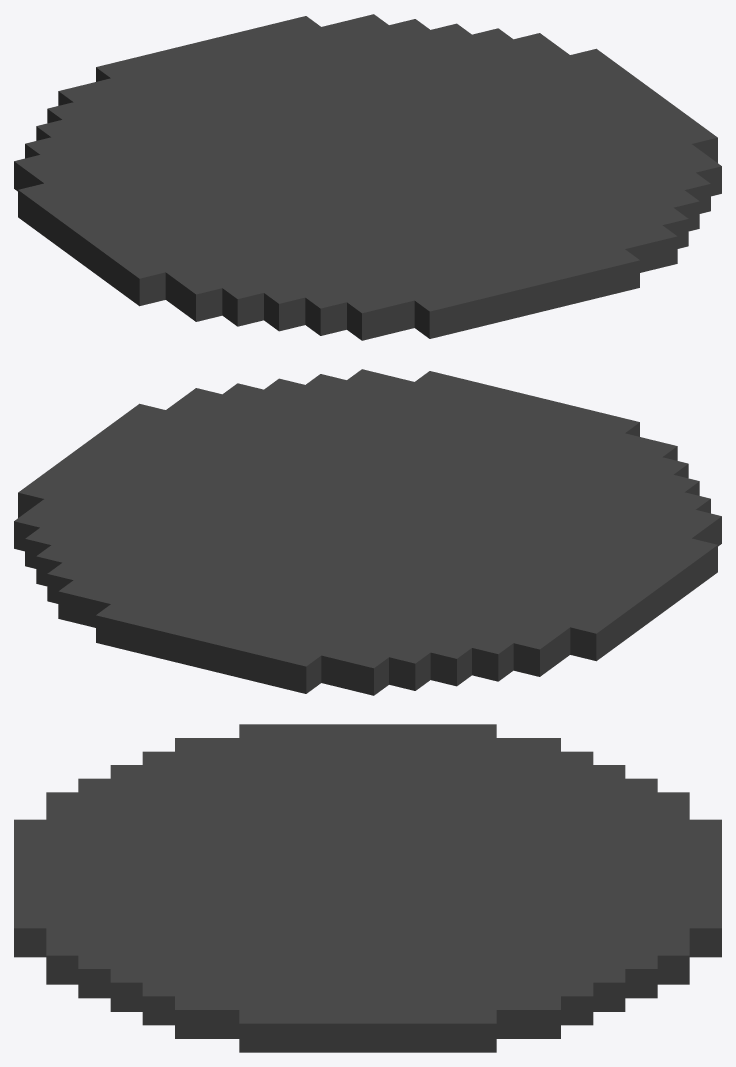
The model's file is mount.gltf.
3 renders of one model, top to bottom at view 1: azimuth 30°, elevation 25°; view 2: azimuth 150°, elevation 25°; view 3: azimuth 270°, elevation 25°, orthographic. The views are drawn at different scales.
Parts seen in each view (by area): view 1: mount; view 2: mount; view 3: mount.
Part boxes in pixels (left/top/right/bottom): mount: left=14, top=14, right=721, bottom=340; mount: left=14, top=369, right=721, bottom=695; mount: left=14, top=724, right=721, bottom=1052.
Size of the model in its own units: 22 by 1 by 22.
Materials: 1 (1 with a texture image).
